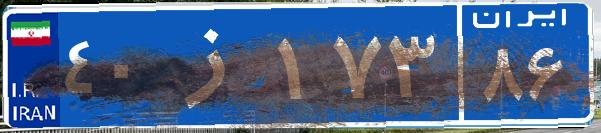0: (110, 28, 158, 105)
1: (273, 28, 330, 110)
3: (385, 28, 445, 110)
4: (57, 26, 110, 107)
6: (525, 38, 570, 115)
7: (330, 28, 385, 110)
8: (475, 38, 525, 113)
ز: (158, 15, 273, 115)
